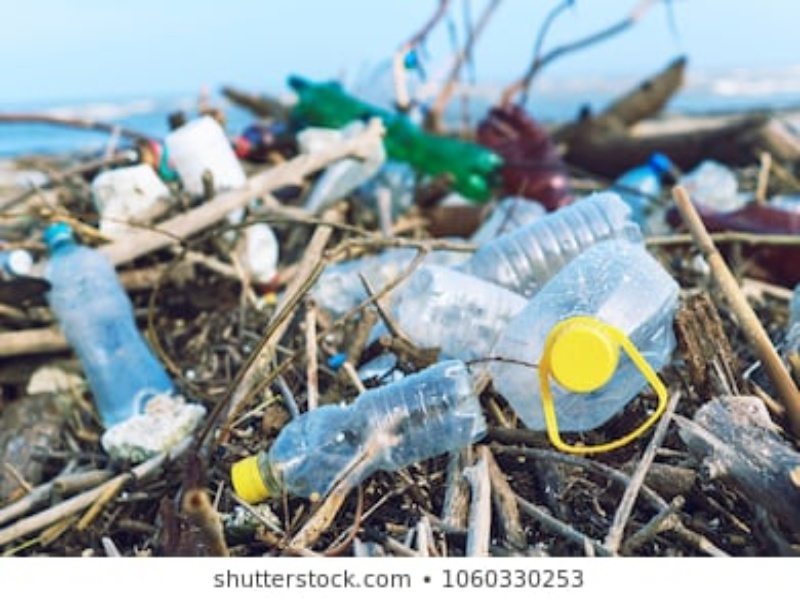bottle-cap: (545, 316, 622, 395), (234, 454, 267, 501), (41, 222, 78, 243)
plastic-bottle: (233, 360, 492, 506), (493, 238, 685, 431), (43, 226, 177, 424), (470, 192, 651, 286), (395, 264, 541, 348)
